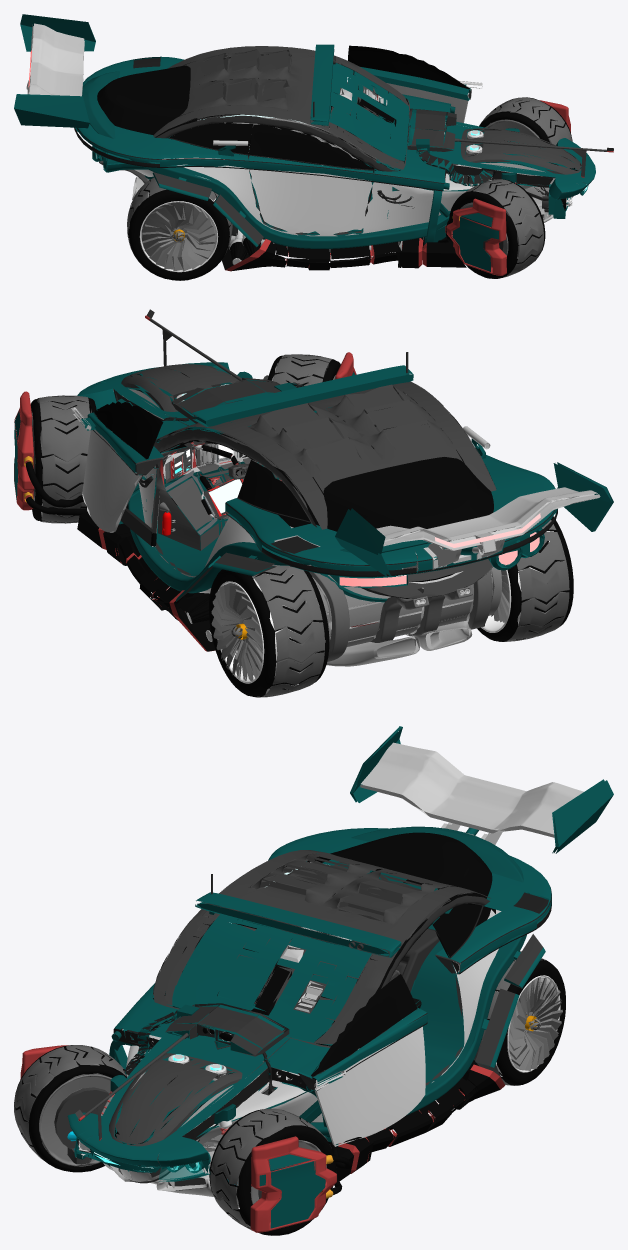
The picture shows the model from 3 angles, top to bottom: view 1: azimuth 30°, elevation 25°; view 2: azimuth 150°, elevation 25°; view 3: azimuth 270°, elevation 25°; orthographic projection. The views are drawn at different scales.
Visible parts, largest first — view 1: Object341_Material #2071_0, Object341_Material #2255_0, Object341_Material #4631_0, Object341_Material #2258_0, Object341_Material #2256_0, Object341_Material #3561_0, Object341_Material #3499_0, Object341_Material #2567_0, Object341_Material #4438_0, Object341_black_0, Object341_Material #2936_0, Object341_Material #5522_0 (+4 smaller); view 2: Object341_Material #4631_0, Object341_Material #2071_0, Object341_Material #3499_0, Object341_Material #2258_0, Object341_Material #2255_0, Object341_Material #3561_0, Object341_Material #2256_0, Object341_Material #4815_0, Object341_Material #2567_0, Object341_black_0, Object341_Material #3688_0, Object341_Material #4438_0 (+8 smaller); view 3: Object341_Material #2071_0, Object341_Material #4631_0, Object341_Material #2255_0, Object341_Material #2256_0, Object341_Material #2258_0, Object341_black_0, Object341_Material #3561_0, Object341_Material #3499_0, Object341_Material #2567_0, Object341_Material #2936_0, Object341_Material #4438_0, Object341_Material #5522_0 (+3 smaller).
Boxes of the visible parts, x1,y1,x2,y2 form: Object341_Material #2071_0: (14,14,595,271); Object341_Material #2255_0: (26,23,573,264); Object341_Material #4631_0: (153,46,613,200); Object341_Material #2258_0: (97,45,469,172); Object341_Material #2256_0: (82,49,519,248); Object341_Material #3561_0: (127,97,572,280); Object341_Material #3499_0: (127,97,572,278); Object341_Material #2567_0: (141,107,554,271); Object341_Material #4438_0: (222,198,566,271); Object341_black_0: (153,51,585,250); Object341_Material #2936_0: (225,100,613,275); Object341_Material #5522_0: (74,57,568,199); Object341_Material #4631_0: (121,309,496,598); Object341_Material #2071_0: (14,362,613,601); Object341_Material #3499_0: (37,354,569,697); Object341_Material #2258_0: (94,392,493,546); Object341_Material #2255_0: (71,381,600,641); Object341_Material #3561_0: (30,354,573,696); Object341_Material #2256_0: (80,371,485,602); Object341_Material #4815_0: (139,486,492,661); Object341_Material #2567_0: (31,363,509,680); Object341_black_0: (32,352,495,638); Object341_Material #3688_0: (156,440,280,550); Object341_Material #4438_0: (77,498,496,651); Object341_Material #2071_0: (67,726,613,1228); Object341_Material #4631_0: (54,850,490,1183); Object341_Material #2255_0: (76,742,583,1184); Object341_Material #2256_0: (109,826,529,1146); Object341_Material #2258_0: (184,832,495,1080); Object341_black_0: (85,869,542,1198); Object341_Material #3561_0: (14,959,565,1235); Object341_Material #3499_0: (14,951,545,1235); Object341_Material #2567_0: (39,977,562,1207); Object341_Material #2936_0: (20,1045,505,1232); Object341_Material #4438_0: (77,1070,500,1181); Object341_Material #5522_0: (79,858,551,1166).
Size of what is drawn, in the model's own units: 3.51 by 1.16 by 2.85.
